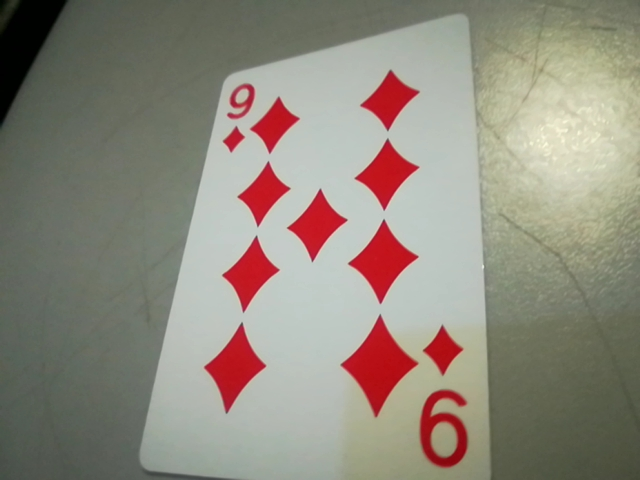fk 9: (409, 318, 486, 480), (209, 74, 271, 159)
